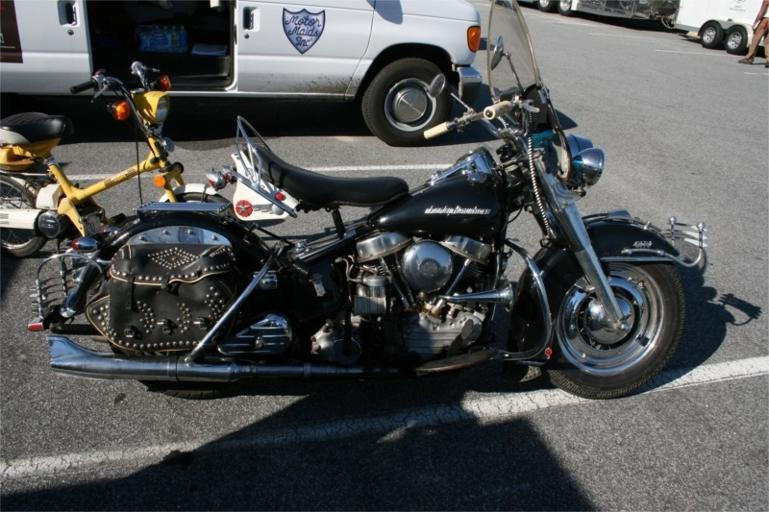non-vehicle: (28, 0, 707, 398), (0, 57, 234, 257)
